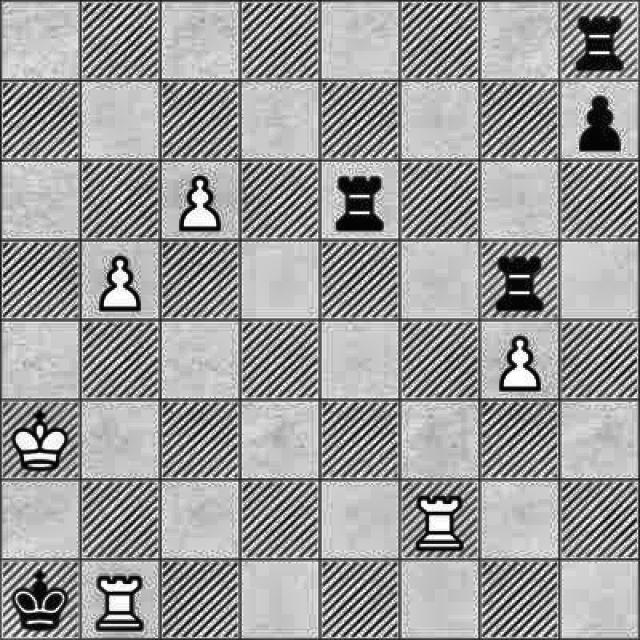black king: (3, 566, 76, 632)
black pawn: (562, 87, 633, 157)
black rook: (327, 164, 396, 238), (484, 251, 557, 315), (565, 8, 633, 74)
white king: (5, 403, 72, 472)
white pawn: (84, 244, 154, 314), (167, 166, 225, 236), (495, 332, 546, 393)
white rook: (92, 563, 152, 632), (412, 489, 471, 558)
